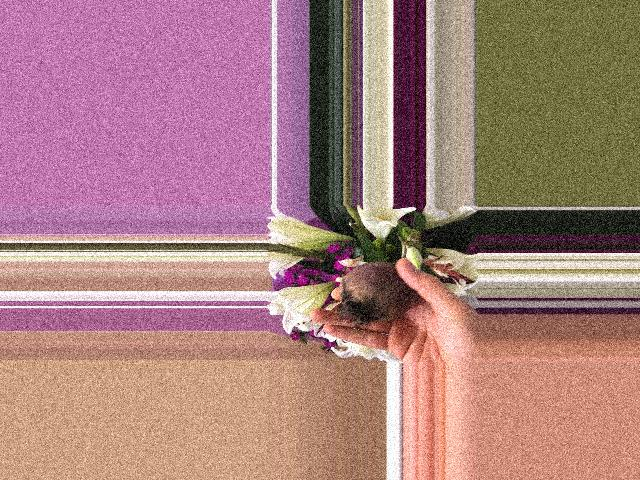beet: (337, 232, 415, 323)
